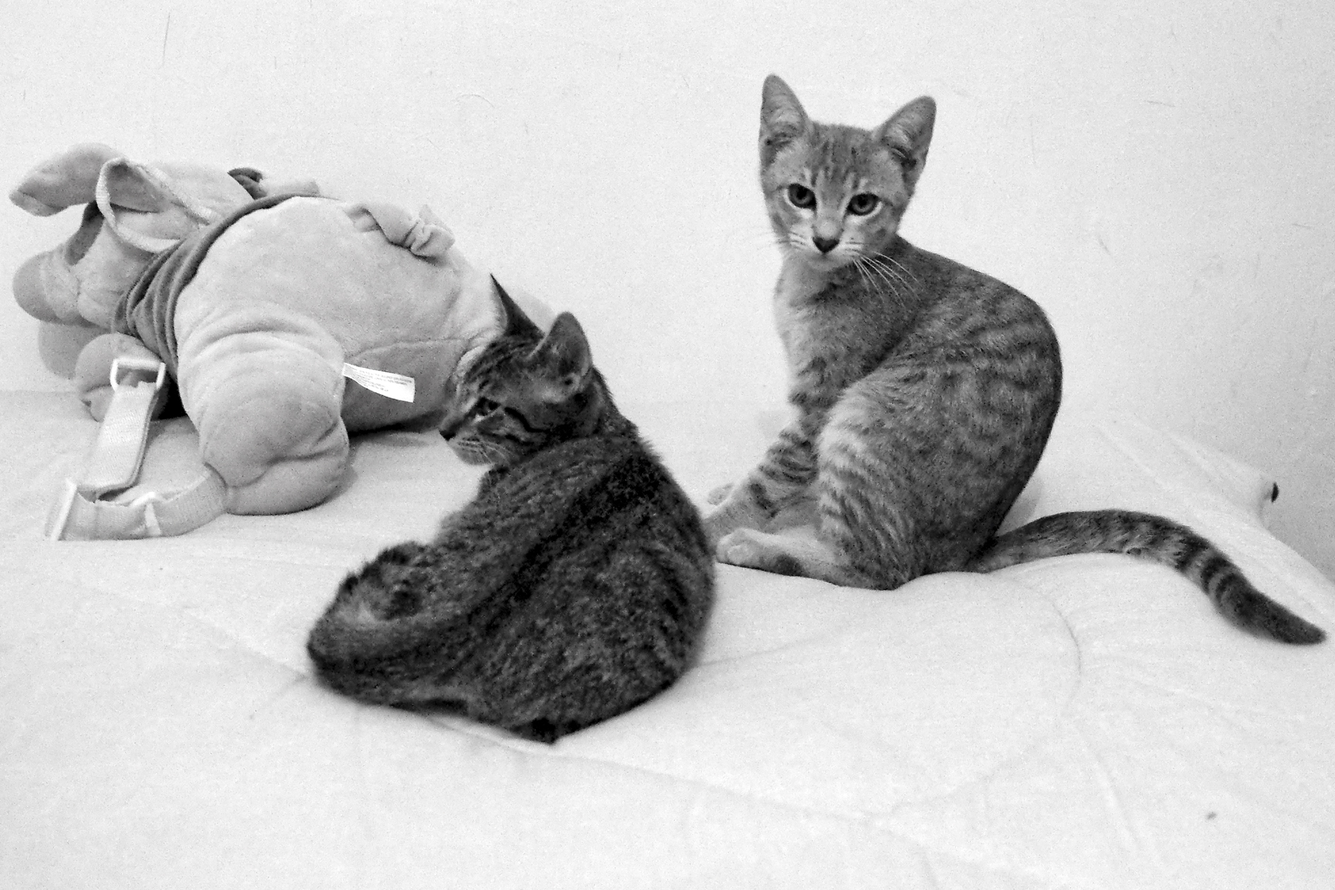cat: (705, 65, 1329, 647), (306, 269, 723, 753)
